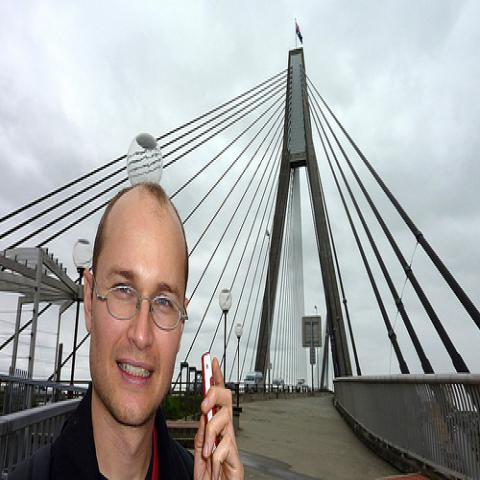car: (272, 380, 284, 393)
truck: (245, 372, 263, 392), (296, 377, 310, 394), (272, 379, 288, 392)
